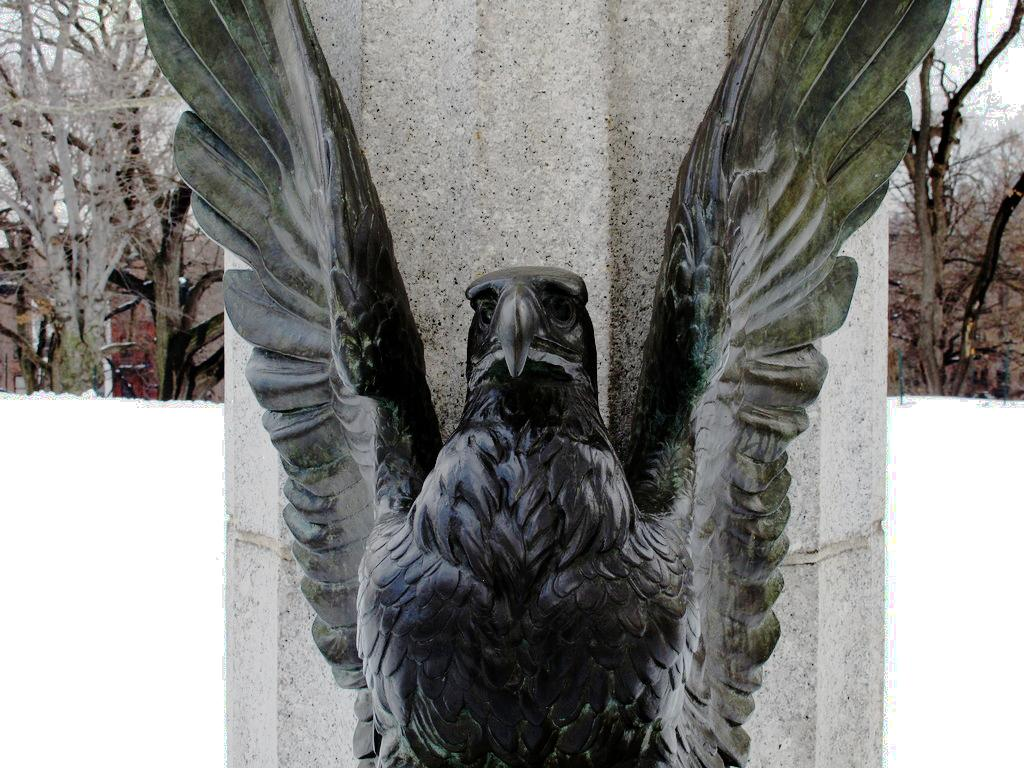Owl: (134, 0, 952, 768)
